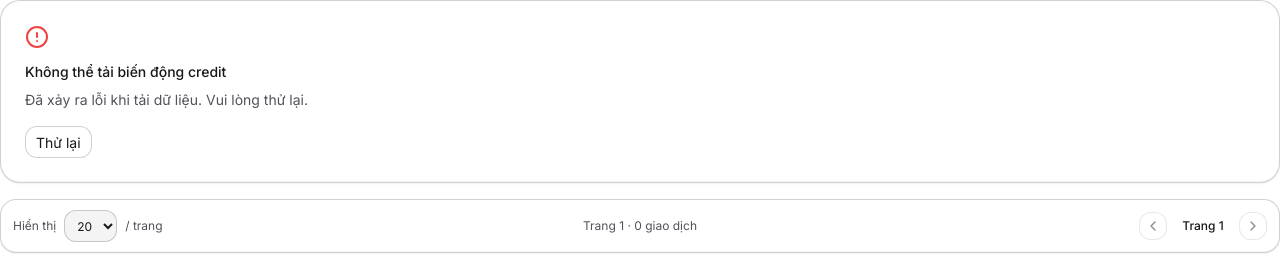
Test: EmployerTransactionsPage › shows a real error and refetches exactly once when retry is clicked
Expected: the text "Không thể tải biến động credit" is shown, top-left (25, 63), bottom-right (226, 80)
What coordinates should you click on to do the following:
click the button "Thử lại"
I would click on:
 (58, 142)
Its box is top-left (25, 126), bottom-right (92, 158).
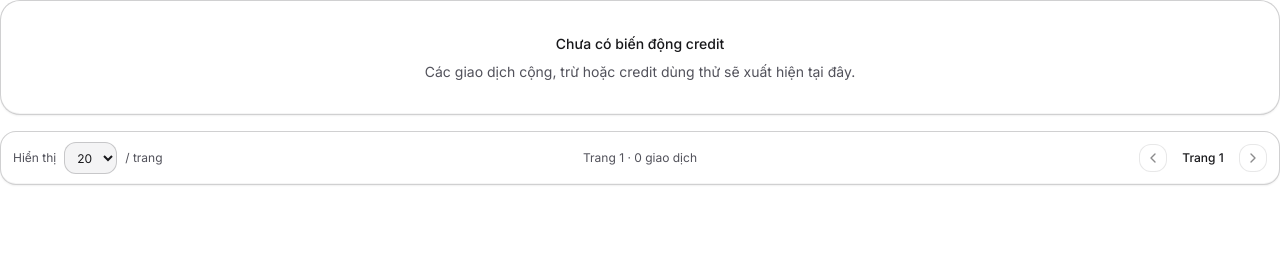
Expected: the text "Chưa có biến động credit" is shown, top-left (556, 35), bottom-right (724, 52)
